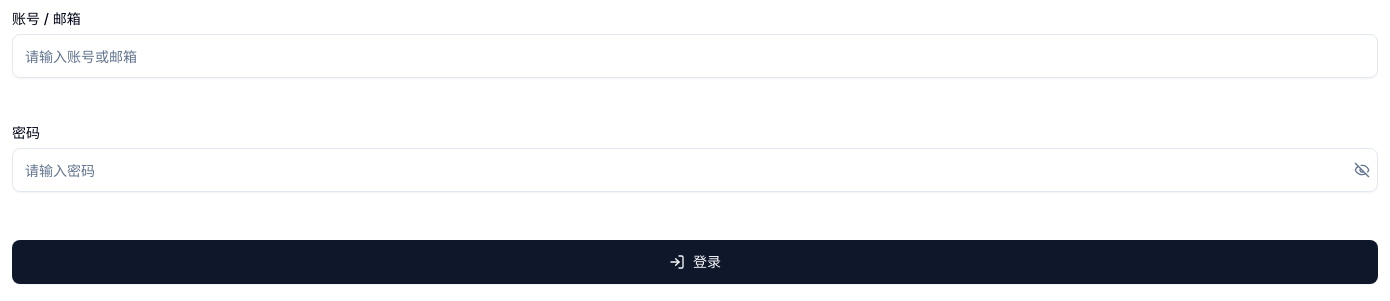
Test: UserAuthForm › disables repeated submissions while authentication is pending
The width and height of the screenshot is (1390, 301).
Type "admin" into the field labelled "账号 / 邮箱" at (695, 56), box [12,34,1378,78]
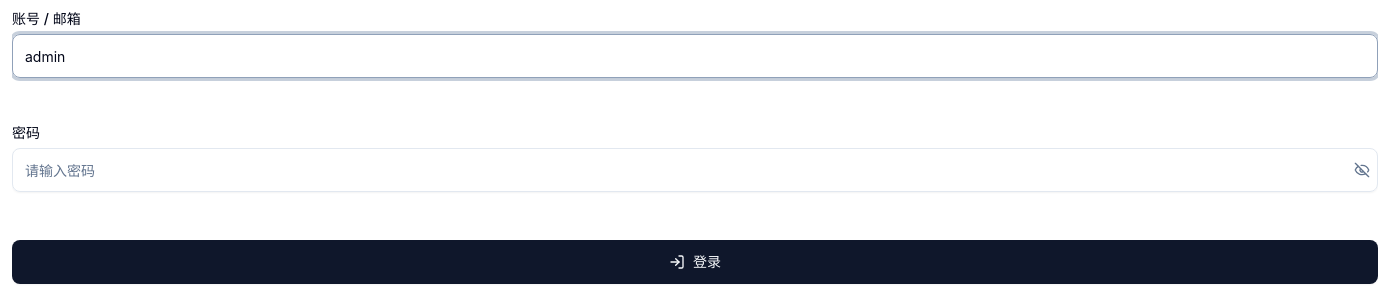
Type "123456" into the password field labelled "密码" at (695, 170), box [12,148,1378,192]
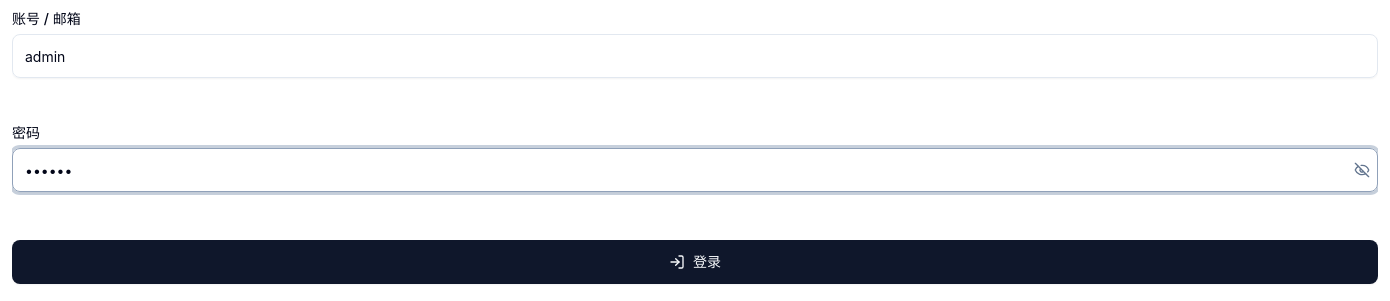
Click the button "登录" at (695, 262), box [12,240,1378,284]
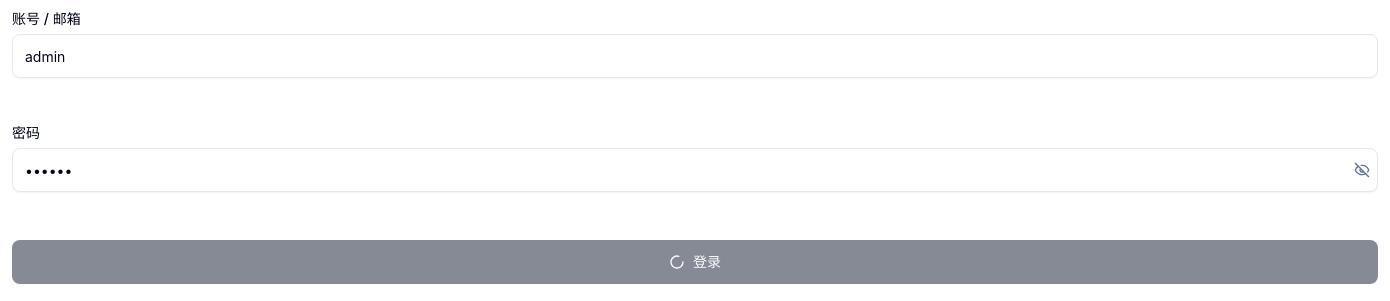
Result: the button "登录" is disabled
Click the button "登录" at (695, 262), box [12,240,1378,284]
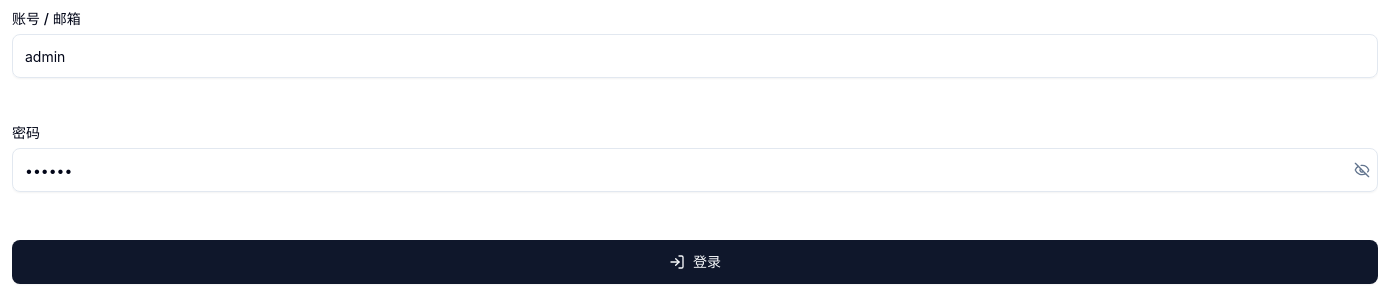
Result: the button "登录" is enabled at [12,240,1378,284]
